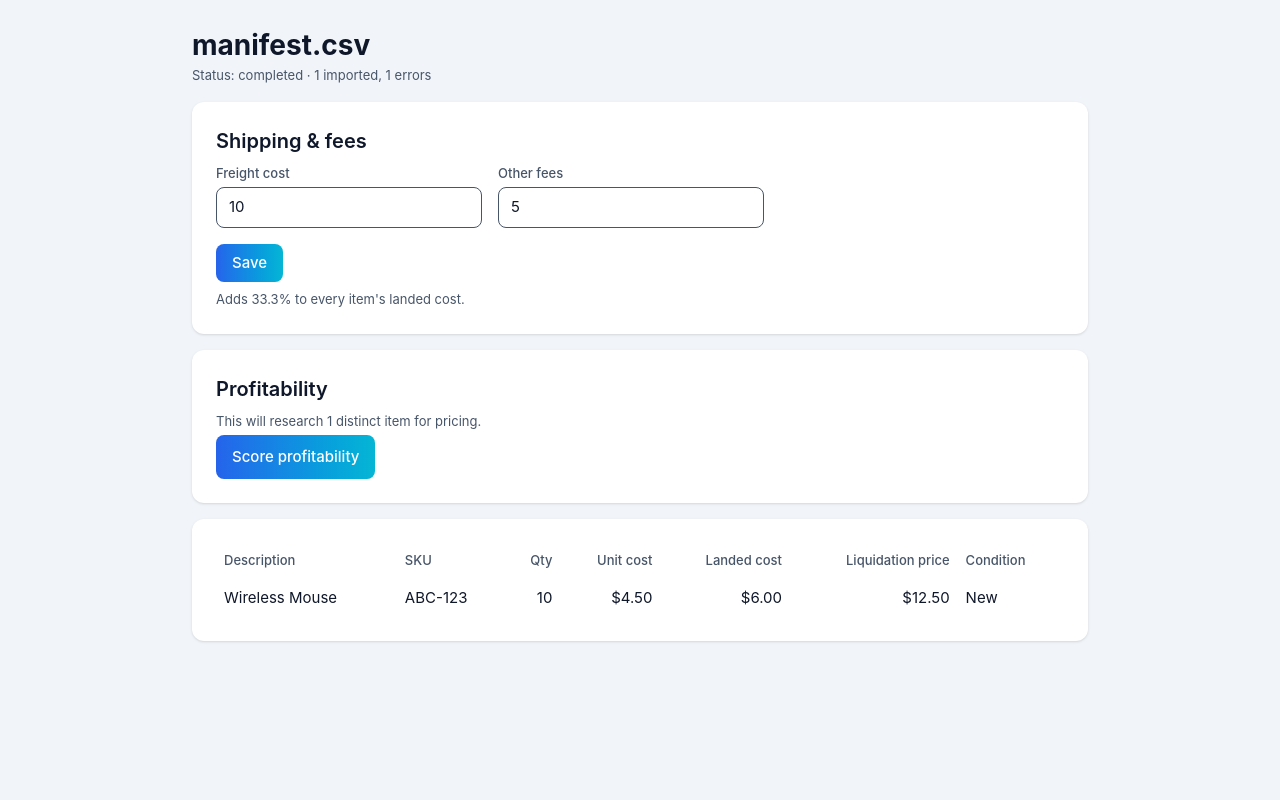
Test case: ManifestDetailPage › saves edited freight/fees and shows a confirmation
The width and height of the screenshot is (1280, 800).
Check: the heading "Shipping & fees" is shown, box [216,128,367,152]
Replace the text in the number field labelled "Freight cost" with "20": (349, 207) [216,187,482,228]
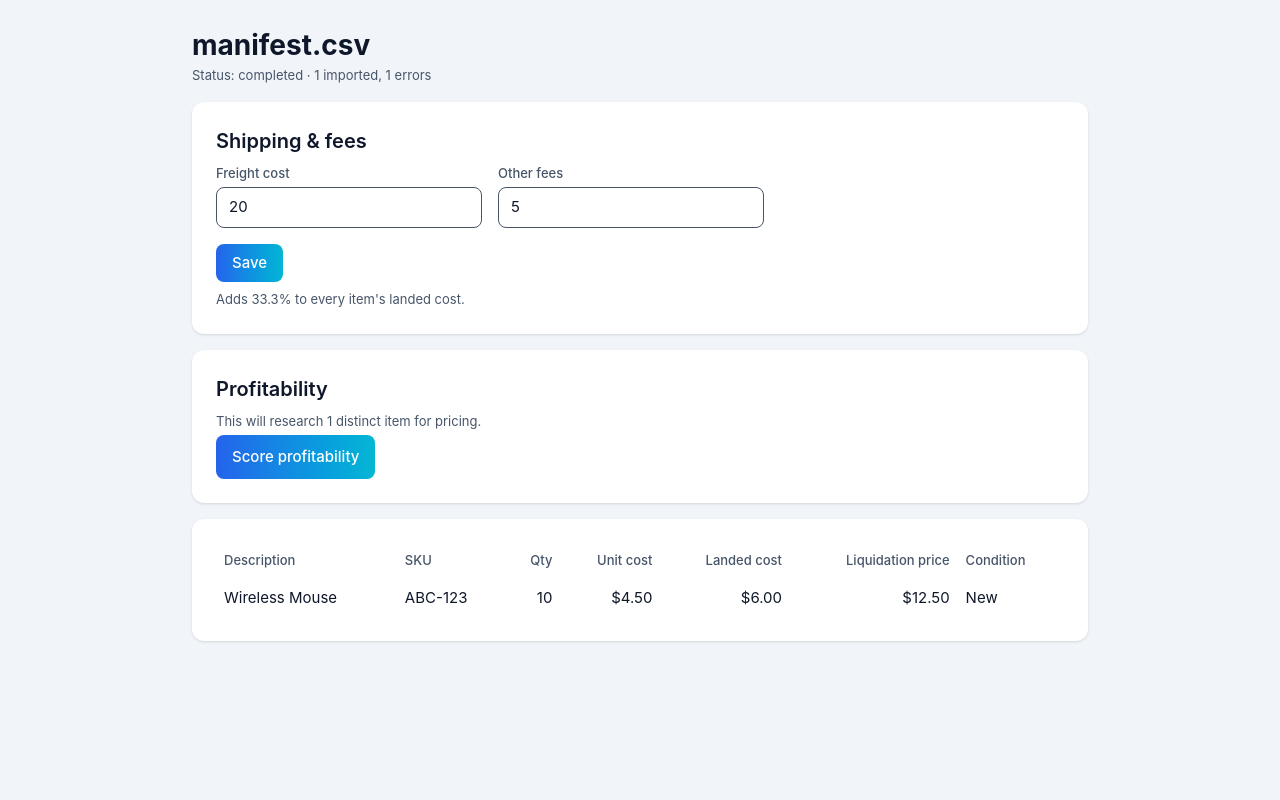
Click the button "Save": click(250, 263) [216,244,283,282]
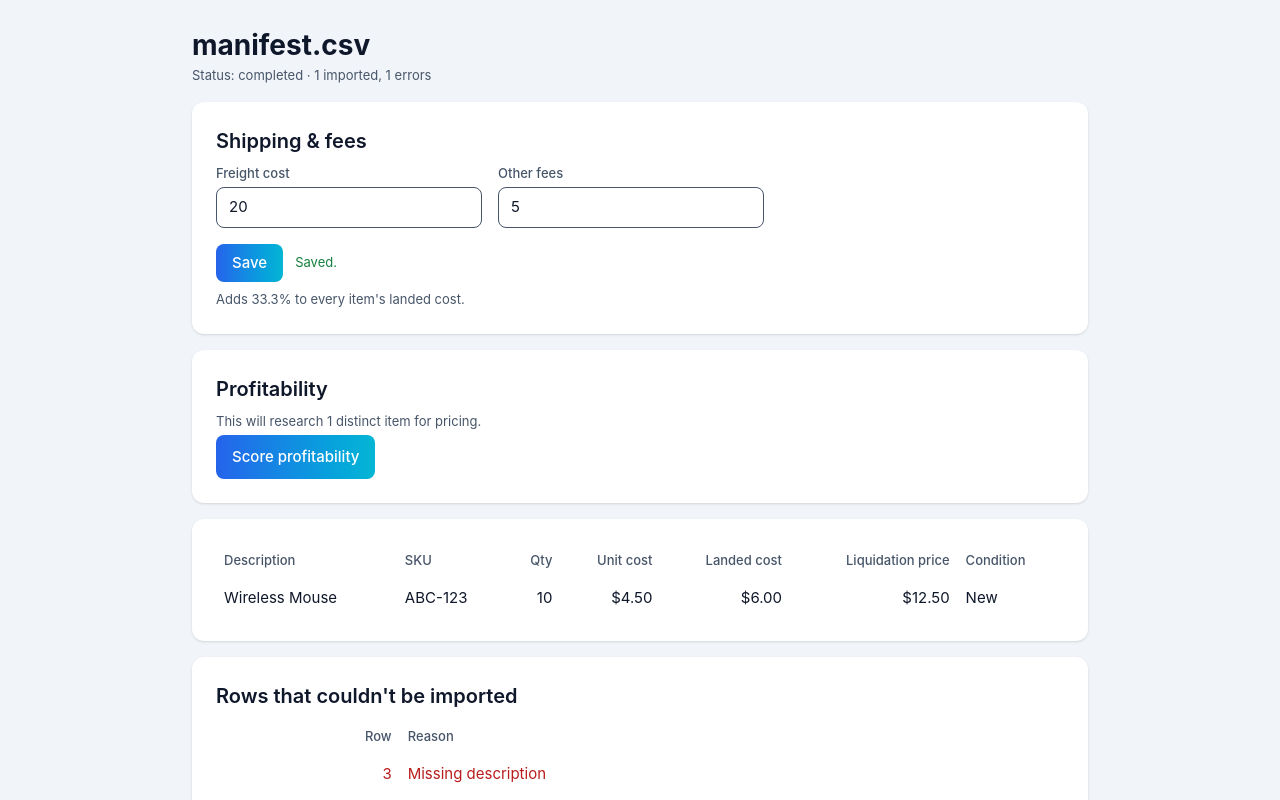
Check: the text "Saved." is shown, box [295,253,337,272]
